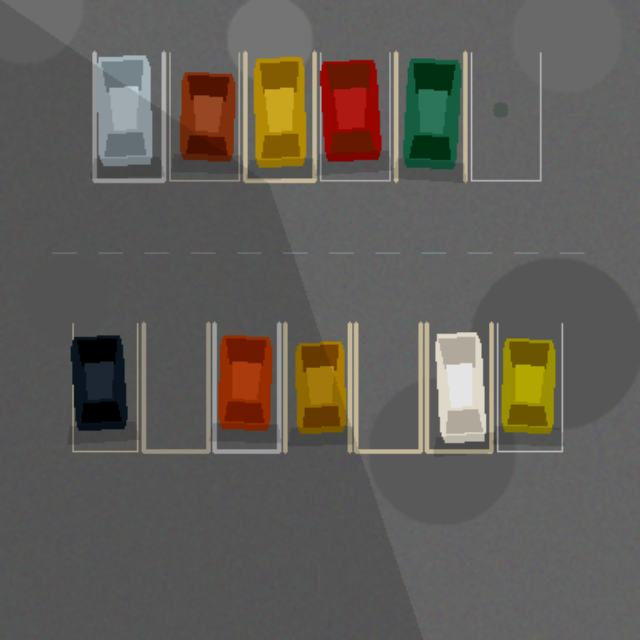space-empty: (471, 52, 540, 180), (143, 323, 208, 451), (355, 323, 420, 451)
space-occupied: (395, 52, 465, 180), (94, 52, 163, 180), (169, 52, 238, 180), (245, 52, 314, 180), (320, 52, 389, 180), (72, 323, 137, 451), (426, 323, 491, 451), (497, 323, 562, 451), (214, 323, 278, 451), (285, 323, 349, 451)
